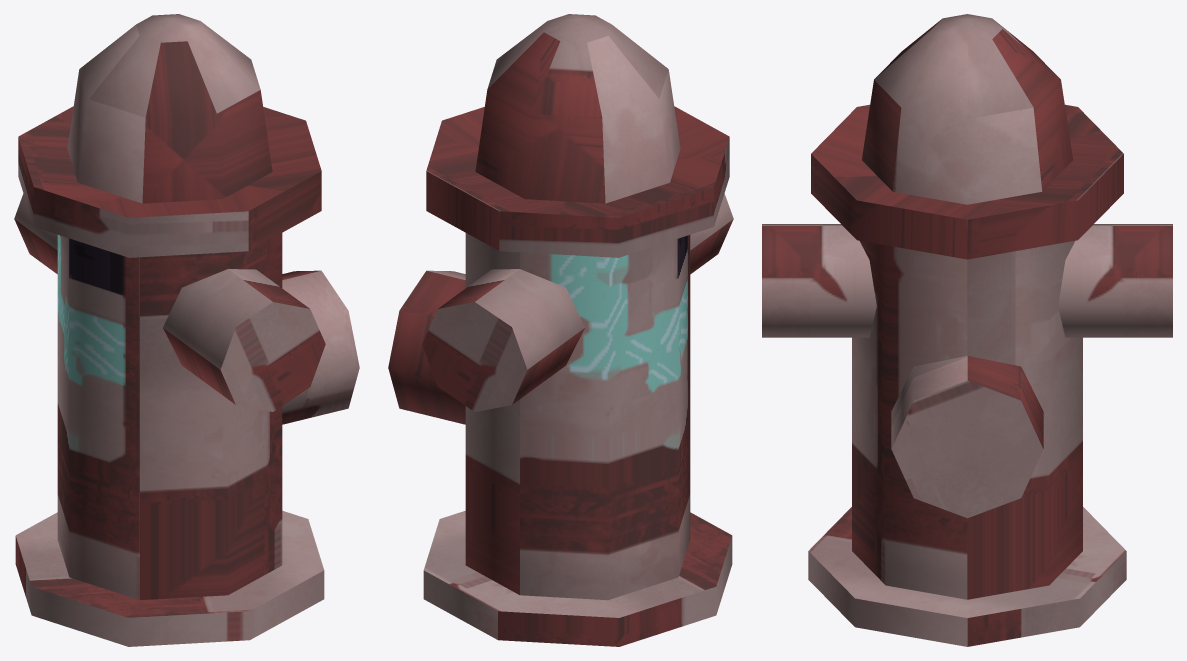
File: firehydrant.fbx
3 renders of one model, left to right at view 1: azimuth 30°, elevation 25°; view 2: azimuth 150°, elevation 25°; view 3: azimuth 270°, elevation 25°, orthographic.
Visible parts, largest first — view 1: Cylinder.001, Cylinder, Cylinder.002, Cylinder.003; view 2: Cylinder.001, Cylinder, Cylinder.002, Cylinder.003; view 3: Cylinder.001, Cylinder, Cylinder.002, Cylinder.003.
Part boxes in pixels (<box>): Cylinder.001: <box>15,233,324,646</box>; Cylinder: <box>18,14,321,257</box>; Cylinder.002: <box>14,193,325,411</box>; Cylinder.003: <box>282,270,359,424</box>; Cylinder.001: <box>423,233,732,646</box>; Cylinder: <box>426,14,729,257</box>; Cylinder.002: <box>422,193,733,411</box>; Cylinder.003: <box>388,270,465,424</box>; Cylinder.001: <box>808,241,1126,646</box>; Cylinder: <box>811,14,1123,259</box>; Cylinder.002: <box>762,224,1172,337</box>; Cylinder.003: <box>891,356,1043,518</box>.
Bounding box in the file's own units: 76.57 × 142 × 94.37.
